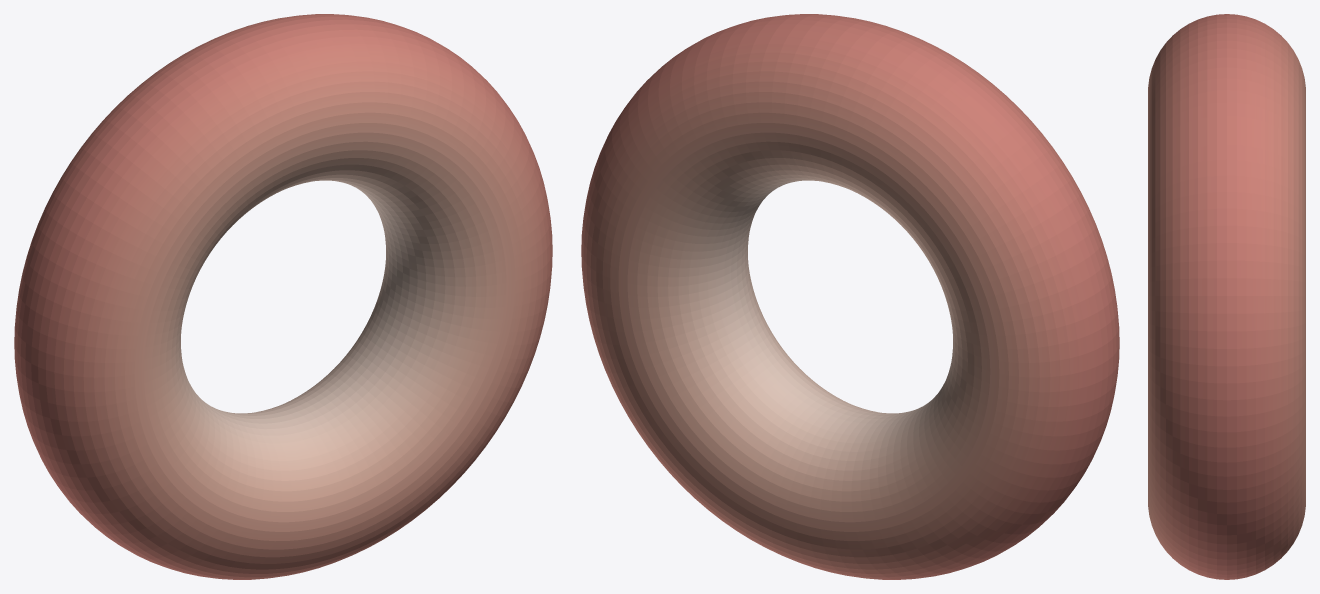
3 renders of one model, left to right at view 1: azimuth 30°, elevation 25°; view 2: azimuth 150°, elevation 25°; view 3: azimuth 270°, elevation 25°, orthographic. The views are drawn at different scales.
Visible parts, largest first — view 1: world; view 2: world; view 3: world.
Boxes of the visible parts, <box> form: world: <box>14,14,552,579</box>; world: <box>581,14,1119,579</box>; world: <box>1148,14,1305,579</box>.
Size of the model in its own units: 26.22 by 26.22 by 7.32.
